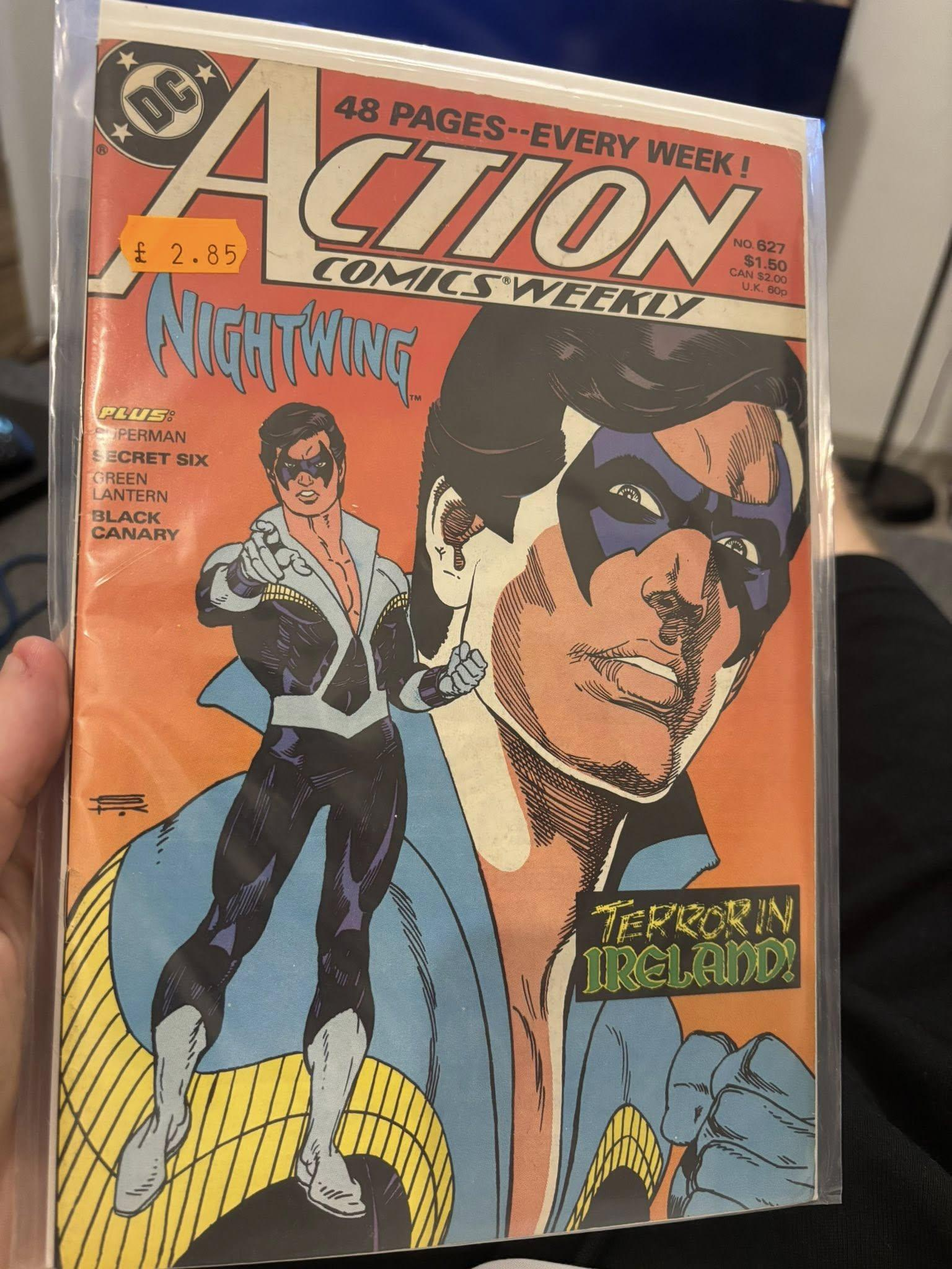comic: (55, 2, 824, 1268)
